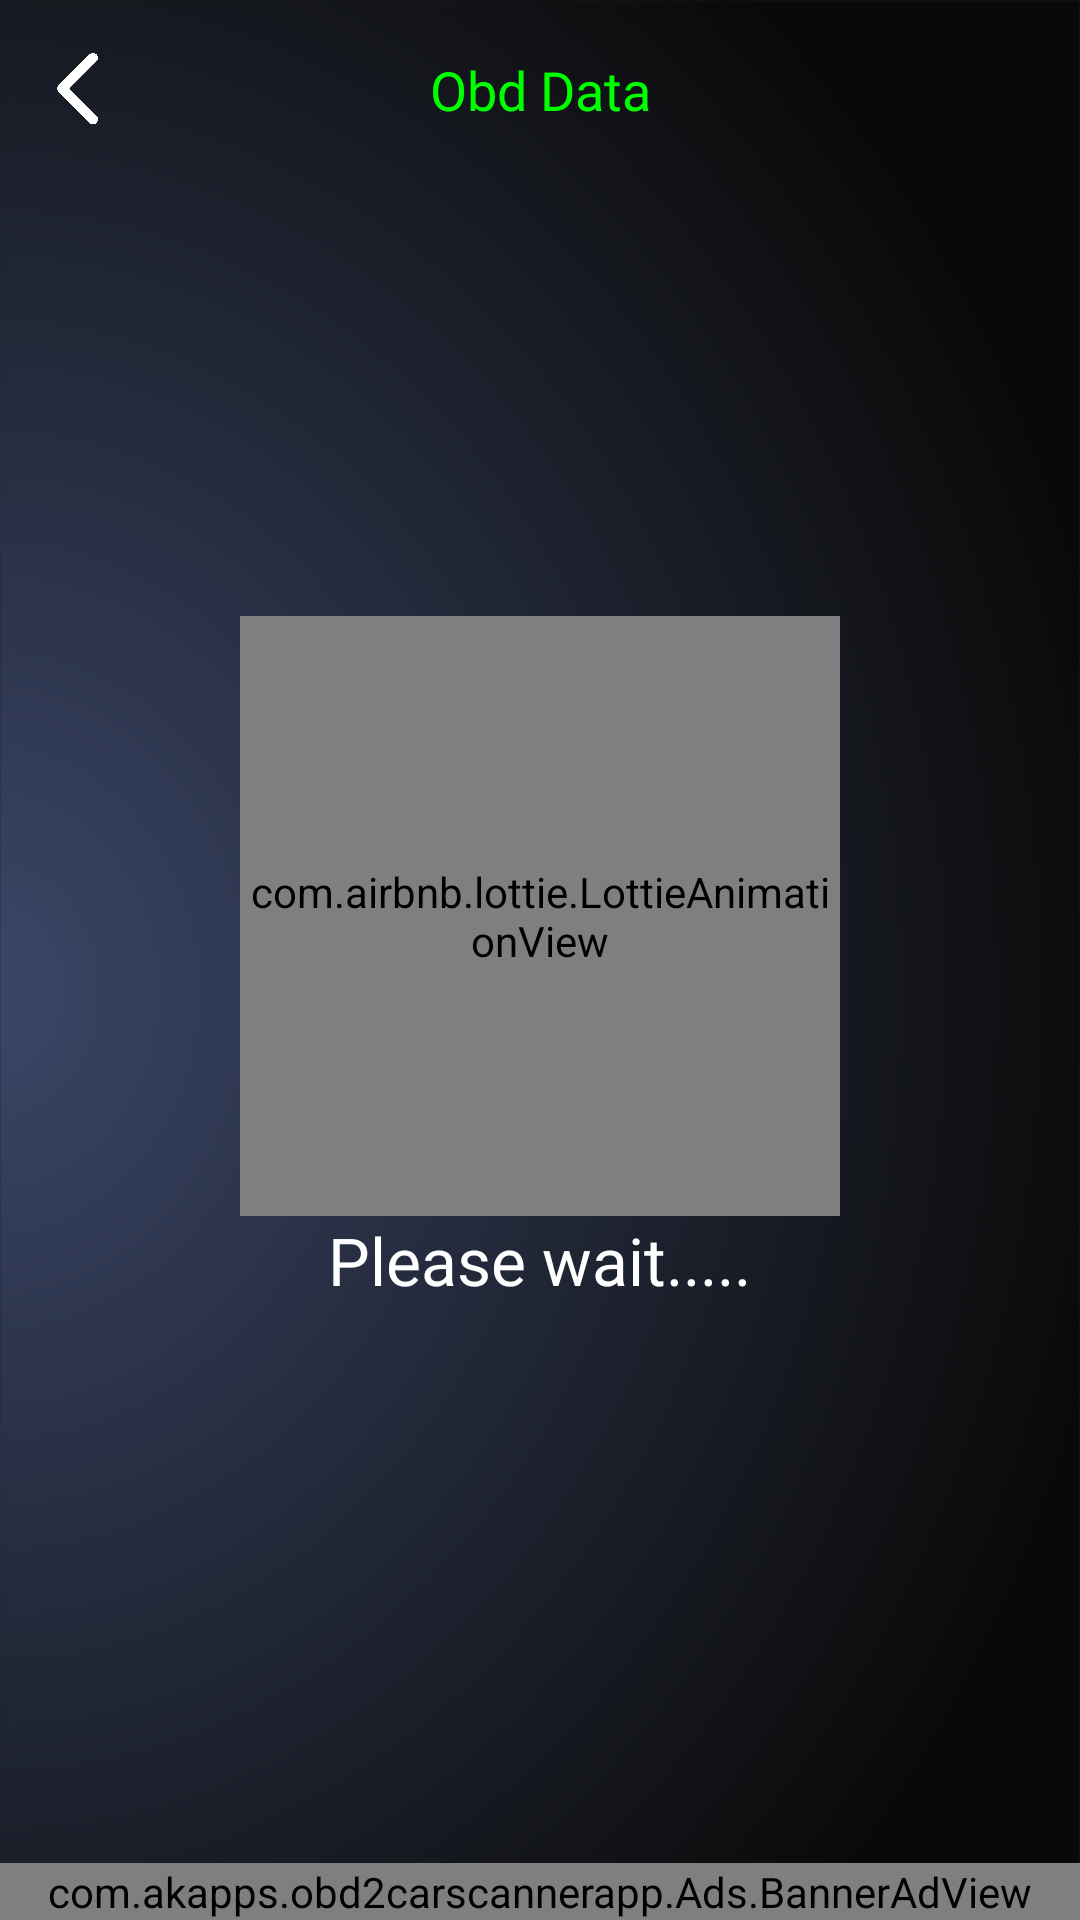

Icon click points for this 1080x1920 phone screenshot, format (x,y):
back: (77,88)
